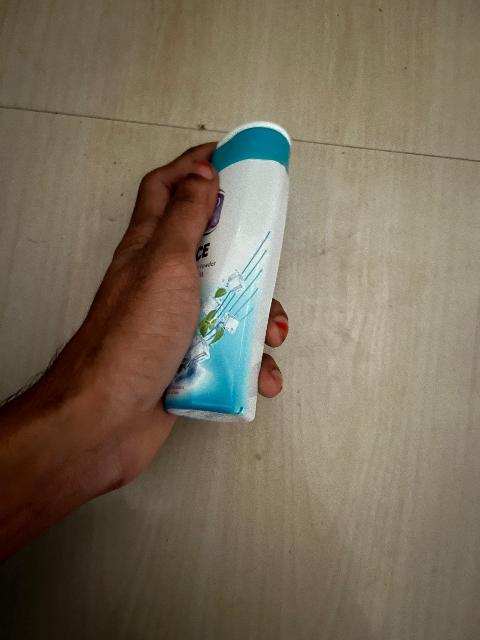boroplus: (205, 127, 280, 409)
hand: (103, 140, 219, 433)
